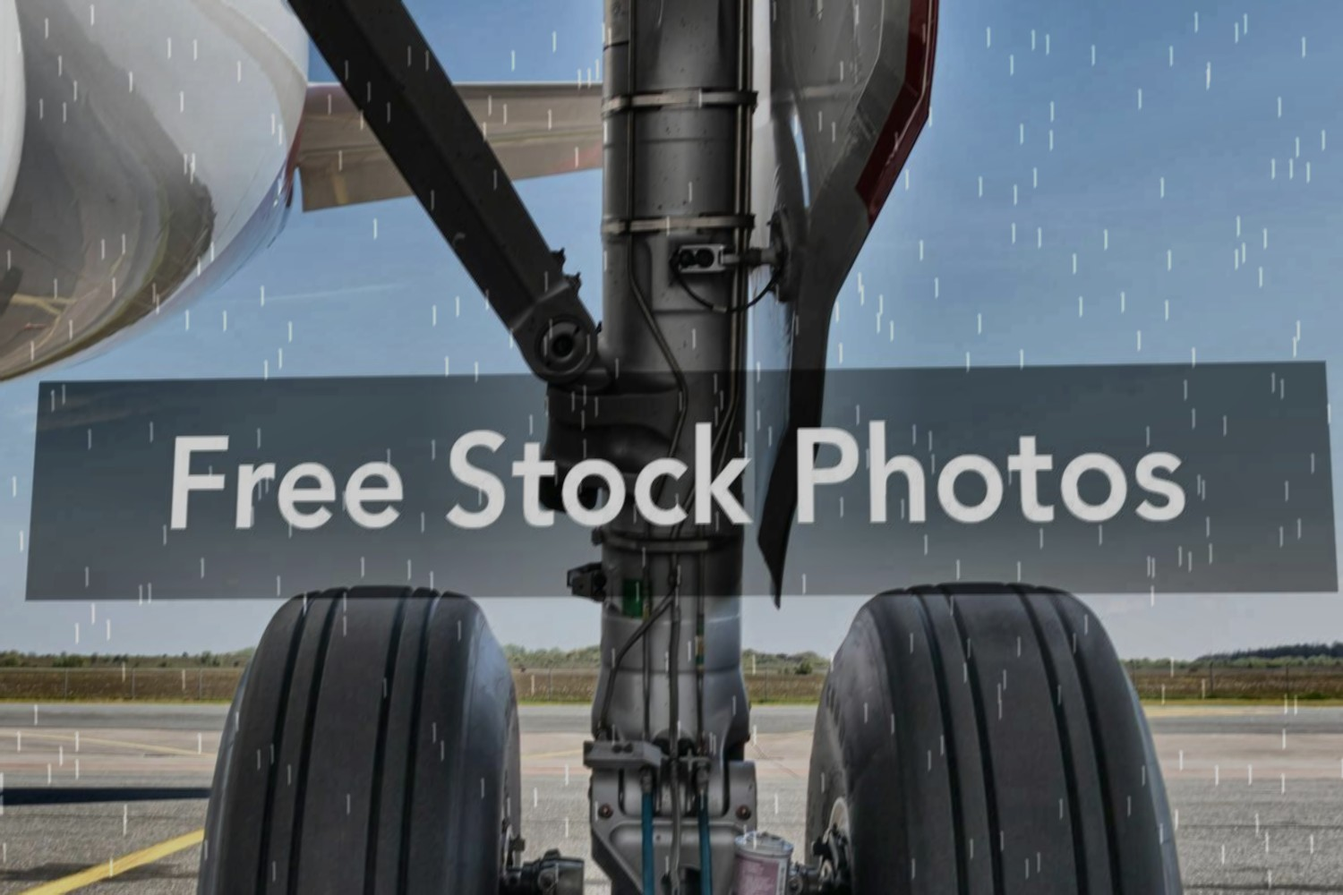wheel: (810, 582, 1196, 895), (180, 586, 523, 895)
